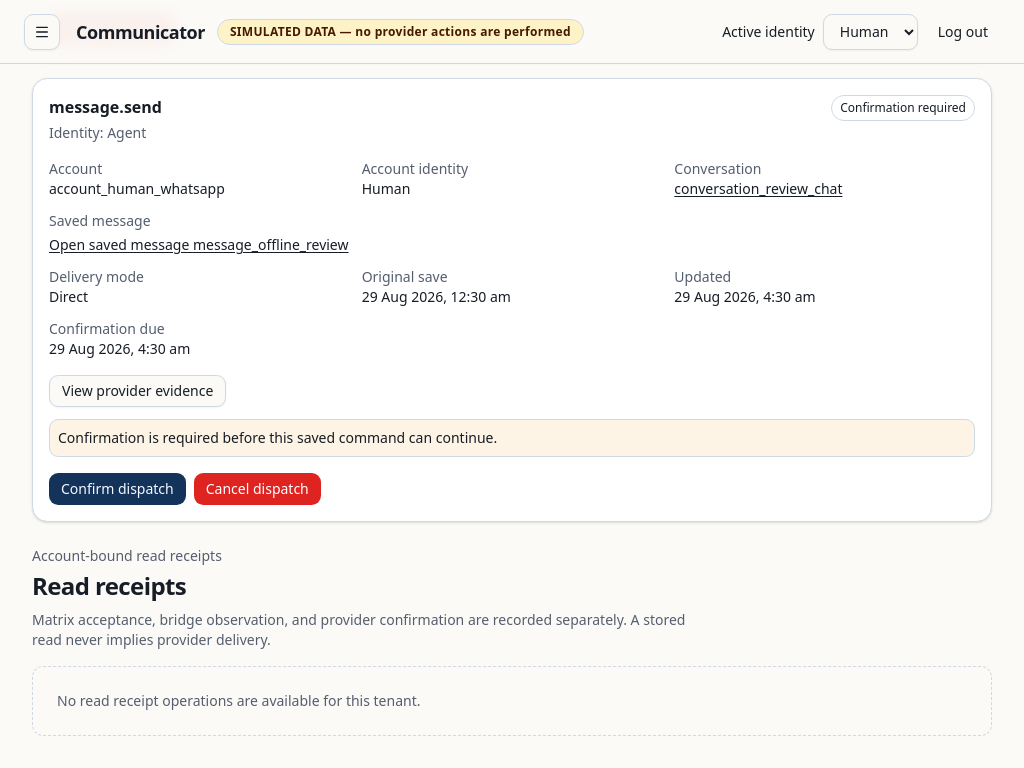
Test: administrator activity › shows saved message context and controls the selected command among chats
This screenshot has width=1024, height=768.
(page scrolled)
Expected: the link "Open saved message message_offline_review" is shown, [49, 235, 348, 254]
Expected: the list item named "Open saved message message_offline_review" is shown, [32, 78, 992, 522]
What coordinates should you click on to do the following:
click the button "Cancel dispatch"
I would click on:
 (257, 489)
Its box is [194, 473, 321, 505].
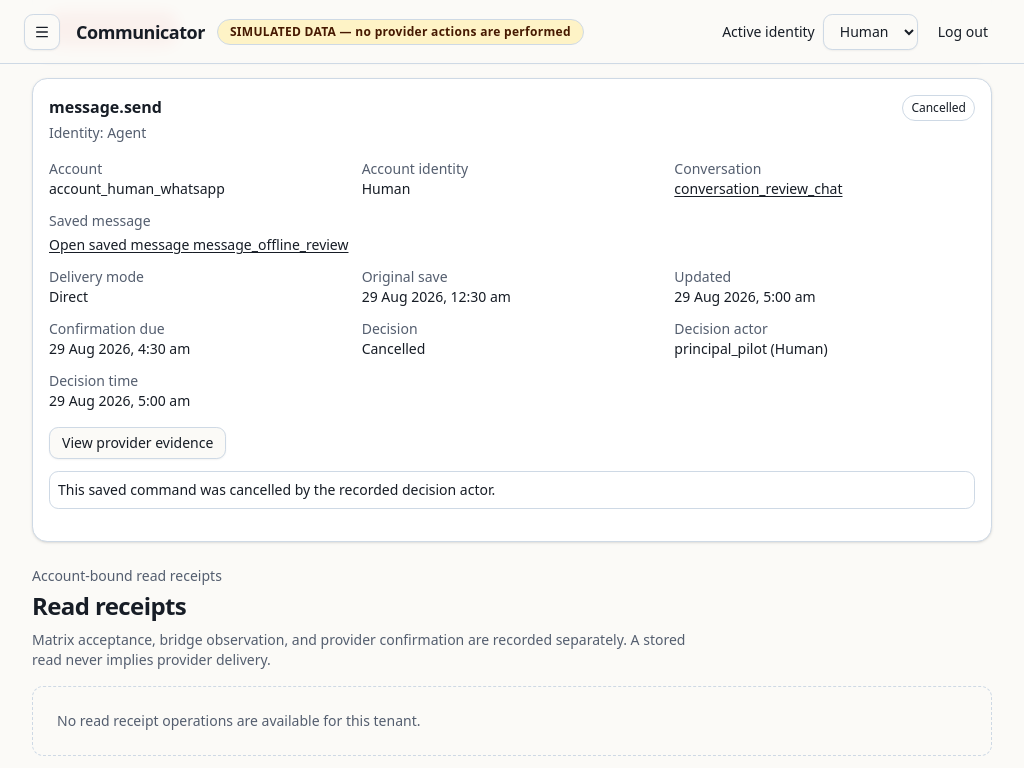
Expected: the text "This saved command was cancelled by the recorded decision actor." is shown, [49, 471, 975, 509]
Expected: the text "principal_pilot (Human)" is shown, [674, 339, 828, 358]
